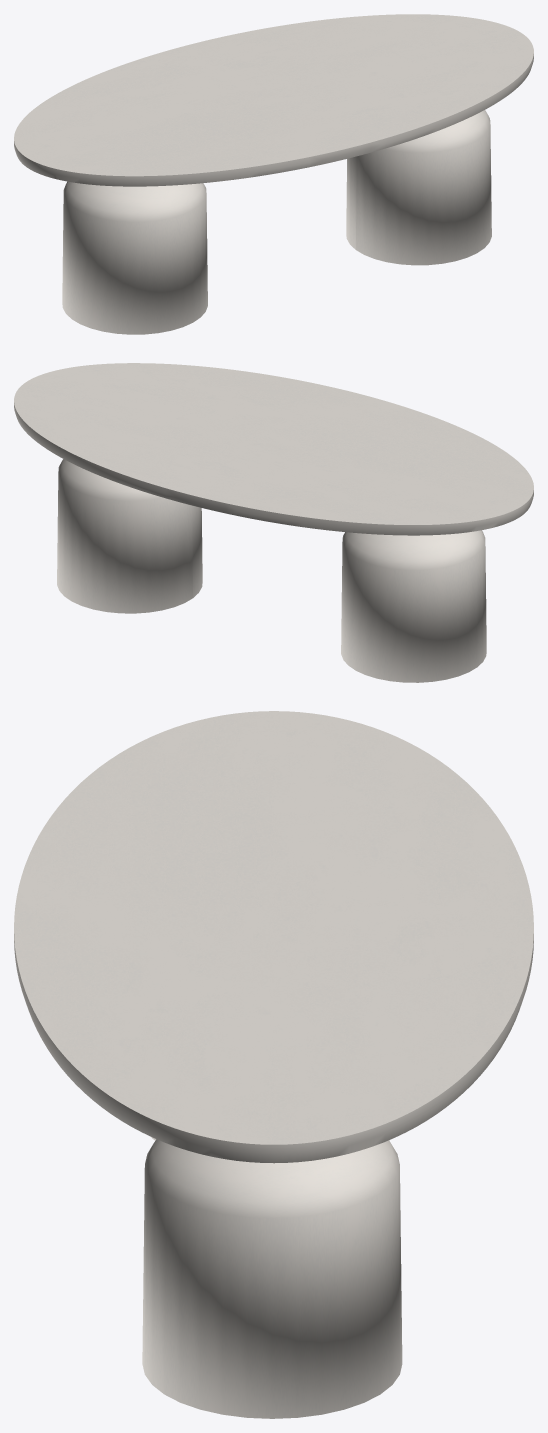
Rendered from pearlwhite_ellips_facet_tornado.glb.
The picture shows the model from 3 angles, top to bottom: view 1: azimuth 30°, elevation 25°; view 2: azimuth 150°, elevation 25°; view 3: azimuth 270°, elevation 25°; orthographic projection. The views are drawn at different scales.
Parts seen in each view (by area): view 1: tabletop_ellips_facet.017, tableleg_tornado.001; view 2: tabletop_ellips_facet.017, tableleg_tornado.001; view 3: tabletop_ellips_facet.017, tableleg_tornado.001.
Boxes of the visible parts, bbox=[...] form: tabletop_ellips_facet.017: bbox=[14, 14, 533, 186]; tableleg_tornado.001: bbox=[62, 110, 491, 334]; tabletop_ellips_facet.017: bbox=[14, 363, 533, 535]; tableleg_tornado.001: bbox=[57, 459, 486, 682]; tabletop_ellips_facet.017: bbox=[14, 711, 533, 1163]; tableleg_tornado.001: bbox=[142, 1137, 402, 1418].
Bounding box in the file's own units: 7.5 × 2.5 × 3.8.
1 material, 1 textured.
